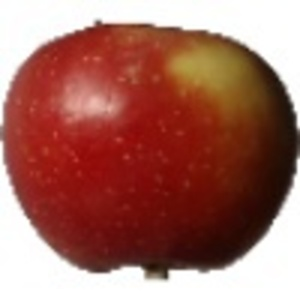maçã braeburn: (1, 16, 298, 272)
